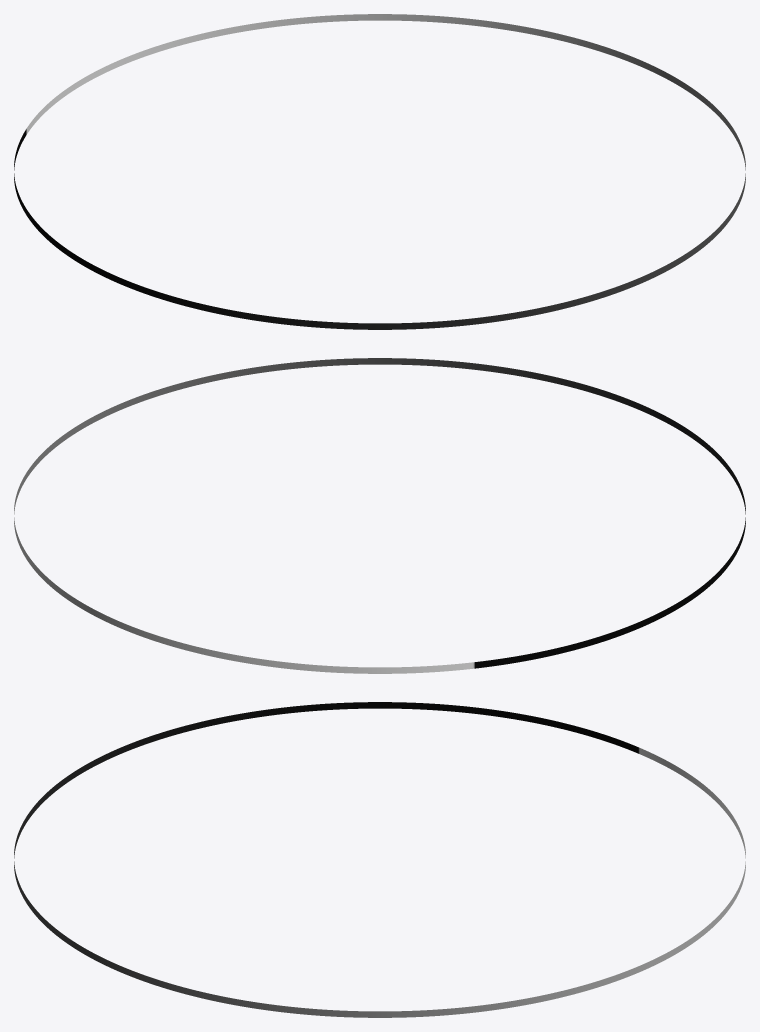
Rendered from m_lasso_ring.fbx.
The picture shows the model from 3 angles, top to bottom: view 1: azimuth 30°, elevation 25°; view 2: azimuth 150°, elevation 25°; view 3: azimuth 270°, elevation 25°; orthographic projection.
Visible parts, largest first — view 1: Cylinder001; view 2: Cylinder001; view 3: Cylinder001.
Boxes of the visible parts, bbox=[...] form: Cylinder001: bbox=[14, 14, 745, 329]; Cylinder001: bbox=[14, 358, 745, 673]; Cylinder001: bbox=[14, 702, 745, 1017].
Size of the model in its own units: 9.02 by 0.088 by 9.02.
1 material, 1 textured.
